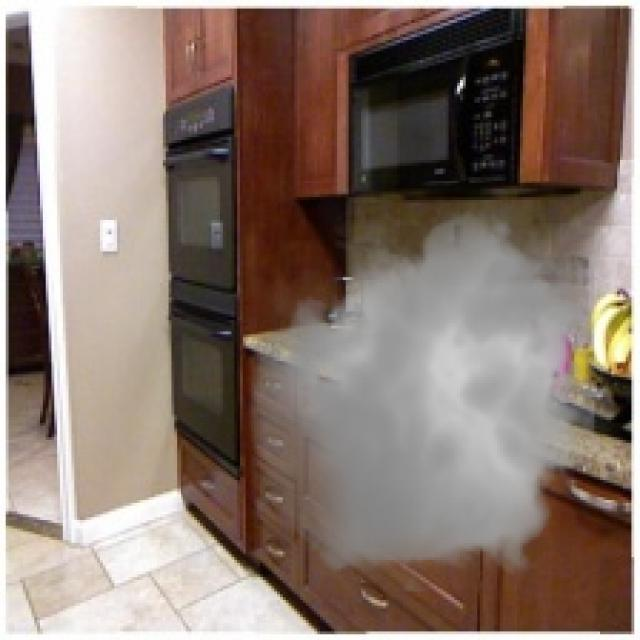smoke: (237, 197, 612, 592)
